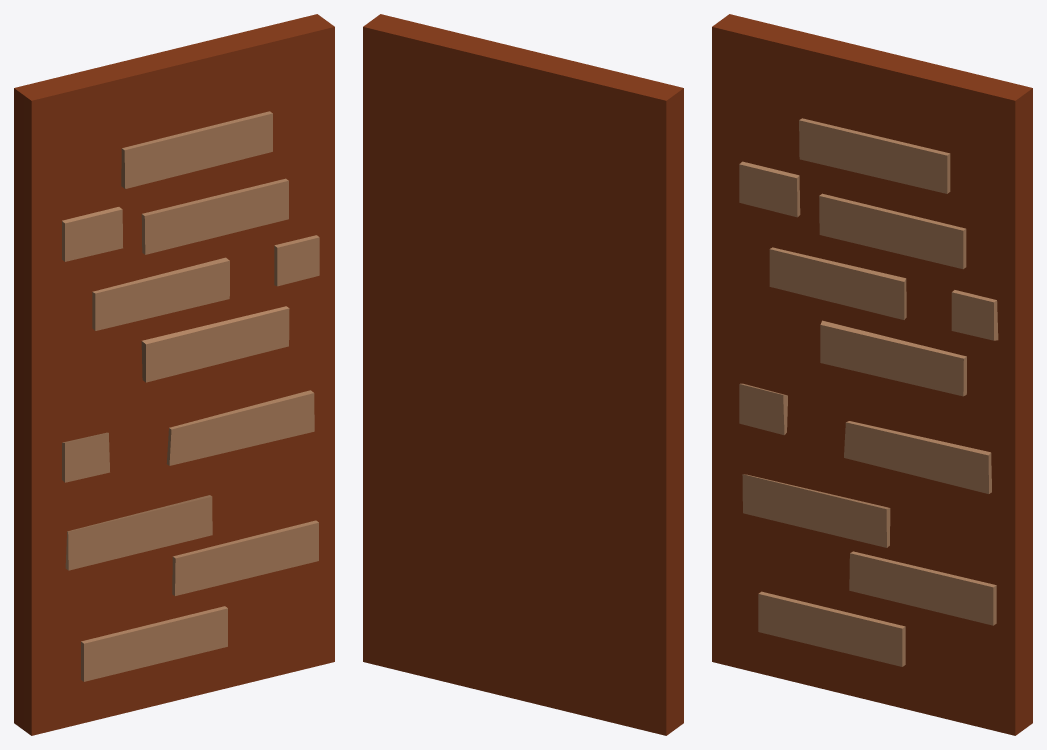
Rendered from BrickV2Small.fbx.
3 renders of one model, left to right at view 1: azimuth 30°, elevation 25°; view 2: azimuth 150°, elevation 25°; view 3: azimuth 330°, elevation 25°, orthographic.
Parts seen in each view (by area): view 1: BrickV2Small; view 2: BrickV2Small; view 3: BrickV2Small.
Part boxes in pixels (left/top/right/bottom): BrickV2Small: left=14, top=14, right=334, bottom=735; BrickV2Small: left=363, top=14, right=683, bottom=735; BrickV2Small: left=712, top=14, right=1032, bottom=735.
Bounding box in the file's own units: 100 × 200 × 11.75.
